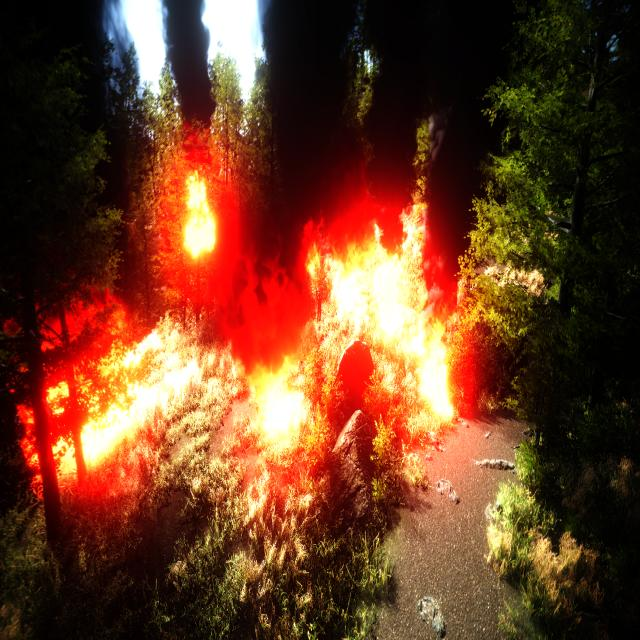Human: (315, 284, 324, 329)
